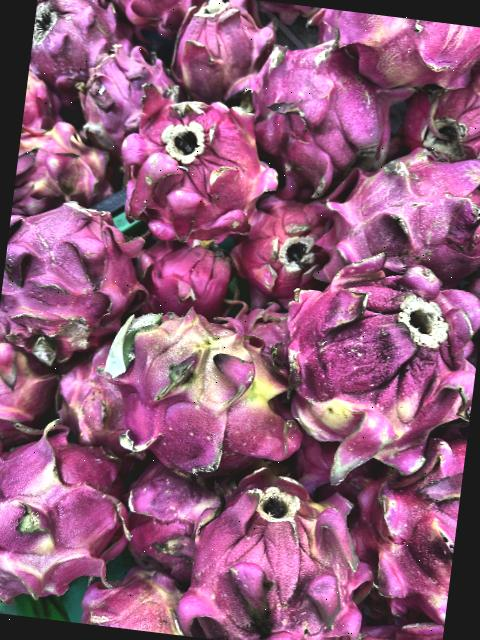buah-naga-belum-matang: (263, 250, 480, 481), (87, 298, 314, 482), (0, 412, 143, 611), (13, 119, 118, 214), (78, 553, 192, 635), (0, 324, 57, 445)
buah-naga-matang: (162, 460, 380, 640), (106, 80, 286, 240), (232, 30, 396, 194), (340, 424, 467, 622), (0, 194, 154, 355), (327, 133, 480, 292), (307, 7, 480, 95), (118, 456, 224, 570), (166, 0, 279, 101), (234, 195, 328, 304), (128, 227, 239, 316), (79, 37, 172, 142), (401, 52, 480, 170), (29, 0, 115, 77)
